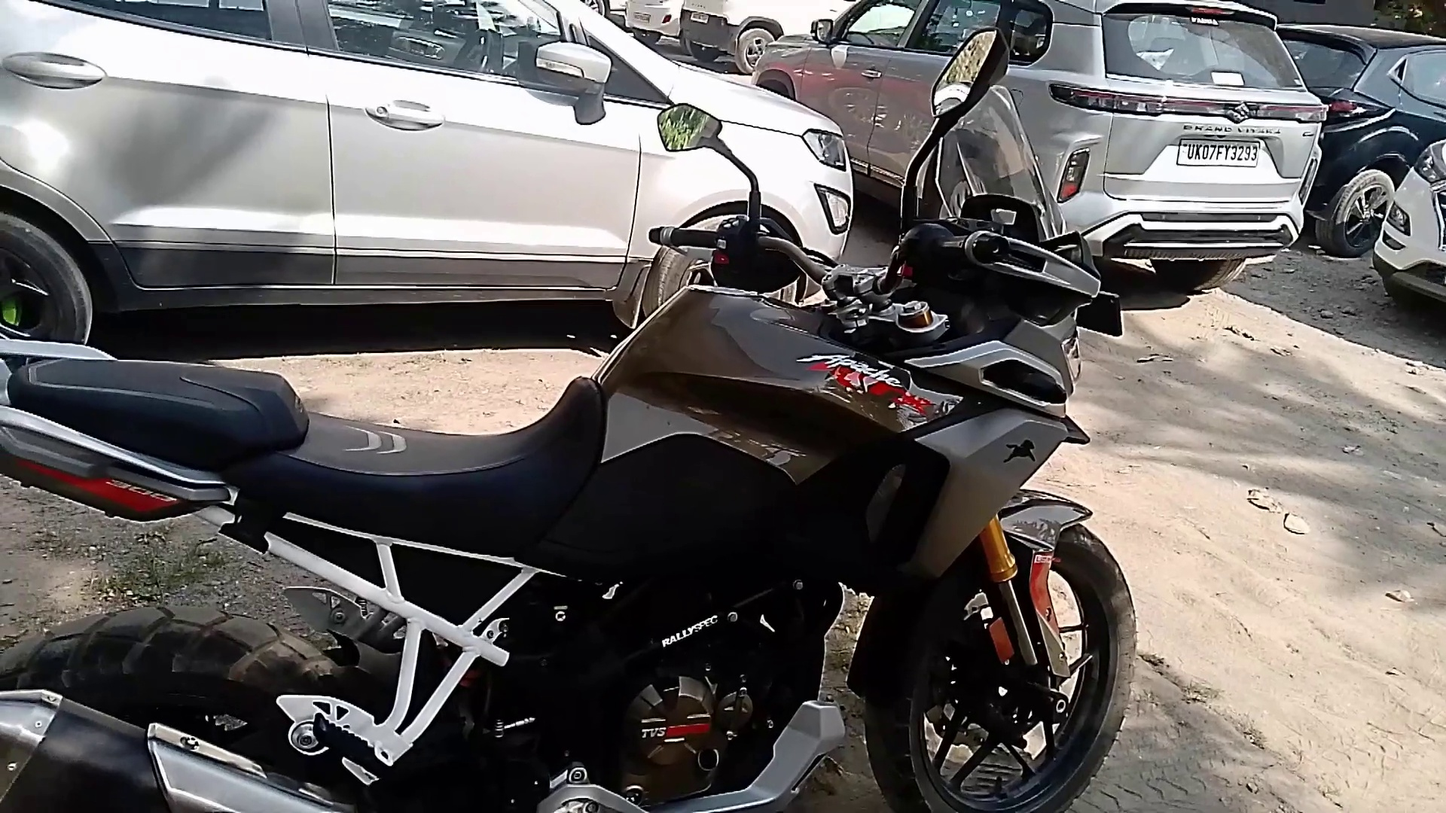engine: (602, 621, 776, 813)
oil_cap: (691, 730, 732, 779)
oil_marker: (612, 768, 655, 811)
